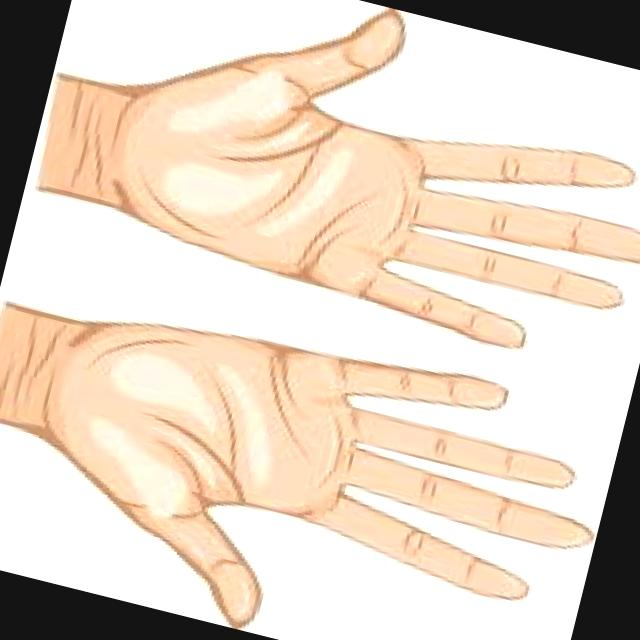Hand: (0, 270, 627, 640), (77, 0, 640, 381)
